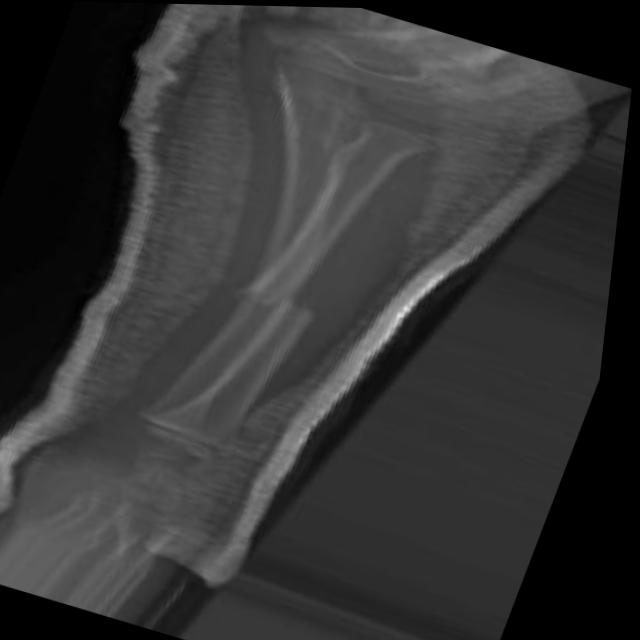fracture: (235, 269, 340, 329)
